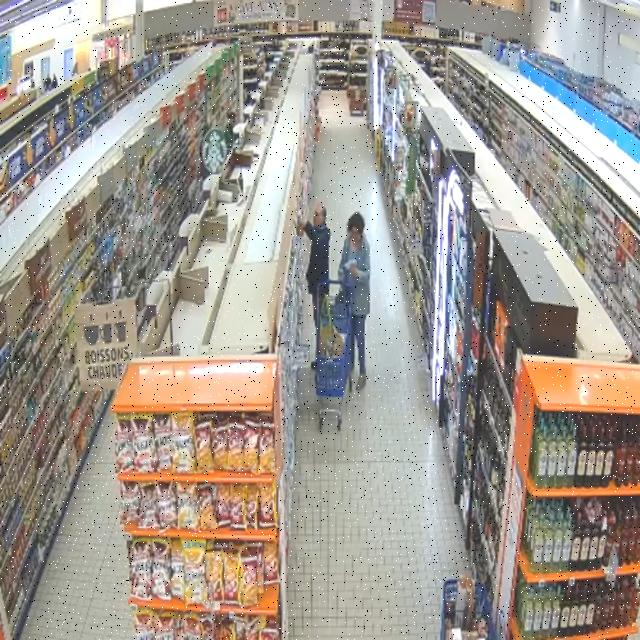article: (338, 257, 358, 275), (297, 223, 302, 237)
hands: (350, 264, 358, 278), (297, 218, 306, 229)
person: (340, 213, 370, 390), (298, 204, 330, 325)
